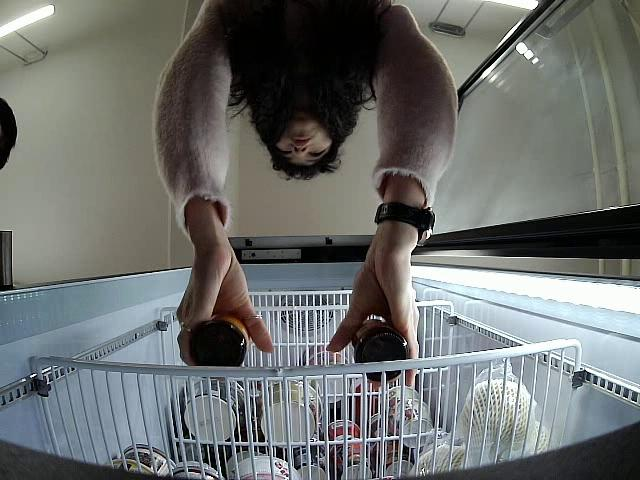00_hand: (326, 253, 420, 395), (176, 256, 278, 365)
17_vita500: (350, 313, 407, 384), (189, 312, 251, 369)
